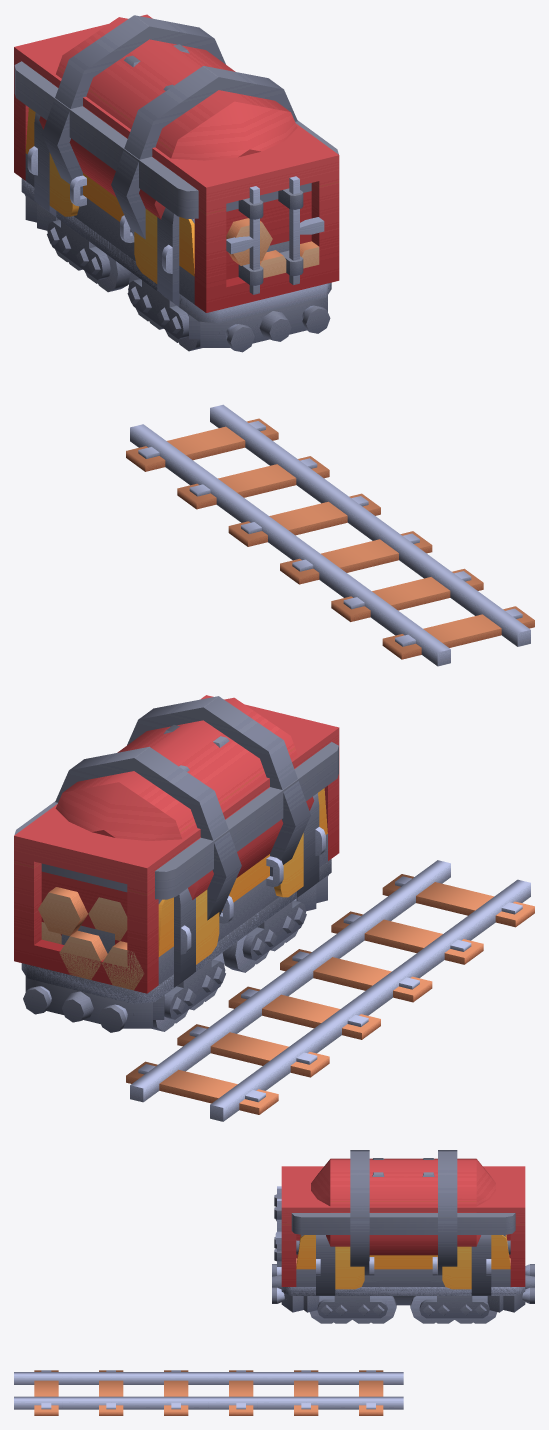
The model's file is kit_train.glb.
3 renders of one model, top to bottom at view 1: azimuth 30°, elevation 25°; view 2: azimuth 150°, elevation 25°; view 3: azimuth 270°, elevation 25°, orthographic. The views are drawn at different scales.
Parts seen in each view (by area): view 1: train-carriage-tank, cargo (×2), railroad-straight, railroad-rail-straight, train-carriage-box, train-diesel-a, train-carriage-lumber, wheels-back (×2), train-carriage-container-red, wheels-front (×2); view 2: train-carriage-tank, cargo (×2), railroad-straight, railroad-rail-straight, train-carriage-box, train-diesel-a, train-carriage-lumber, wheels-front (×2), wheels-back (×2), train-carriage-container-red; view 3: train-carriage-tank, railroad-rail-straight, cargo, train-diesel-a, train-carriage-box, railroad-straight, train-carriage-lumber, wheels-back (×2), wheels-front (×2), train-carriage-container-red.
Part boxes in pixels (<box>): train-carriage-tank: <box>22,15,318,351</box>; cargo (×2): <box>14,14,339,312</box>; railroad-straight: <box>126,418,534,659</box>; railroad-rail-straight: <box>130,404,530,666</box>; train-carriage-box: <box>14,61,338,350</box>; train-diesel-a: <box>25,44,219,339</box>; train-carriage-lumber: <box>21,112,331,350</box>; wheels-back (×2): <box>47,218,130,292</box>; train-carriage-container-red: <box>27,196,330,352</box>; wheels-front (×2): <box>127,272,201,351</box>; train-carriage-tank: <box>25,696,331,1031</box>; cargo (×2): <box>14,695,339,993</box>; railroad-straight: <box>126,874,534,1114</box>; railroad-rail-straight: <box>130,860,530,1121</box>; train-carriage-box: <box>14,742,338,1032</box>; train-diesel-a: <box>133,725,327,1019</box>; train-carriage-lumber: <box>25,793,327,1030</box>; wheels-front (×2): <box>223,898,306,972</box>; wheels-back (×2): <box>153,952,225,1031</box>; train-carriage-container-red: <box>23,863,327,1032</box>; train-carriage-tank: <box>272,1150,534,1312</box>; railroad-rail-straight: <box>14,1372,403,1409</box>; cargo: <box>274,1166,525,1286</box>; train-diesel-a: <box>286,1158,510,1312</box>; train-carriage-box: <box>272,1213,534,1312</box>; railroad-straight: <box>34,1370,383,1415</box>; train-carriage-lumber: <box>272,1235,534,1296</box>; wheels-back (×2): <box>410,1296,497,1323</box>; wheels-front (×2): <box>309,1296,396,1323</box>; train-carriage-container-red: <box>272,1264,534,1308</box>.
Size of the model in its own units: 1.39 by 2.75 by 5.35.
Materials: 1 (1 with a texture image).
